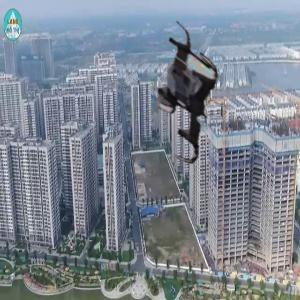drone: (128, 40, 244, 156)
